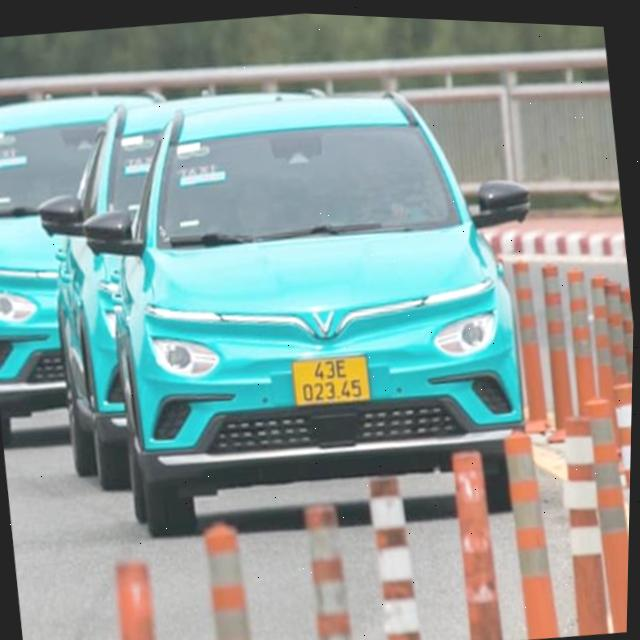car: (26, 38, 585, 575)
plate: (281, 343, 381, 418)
